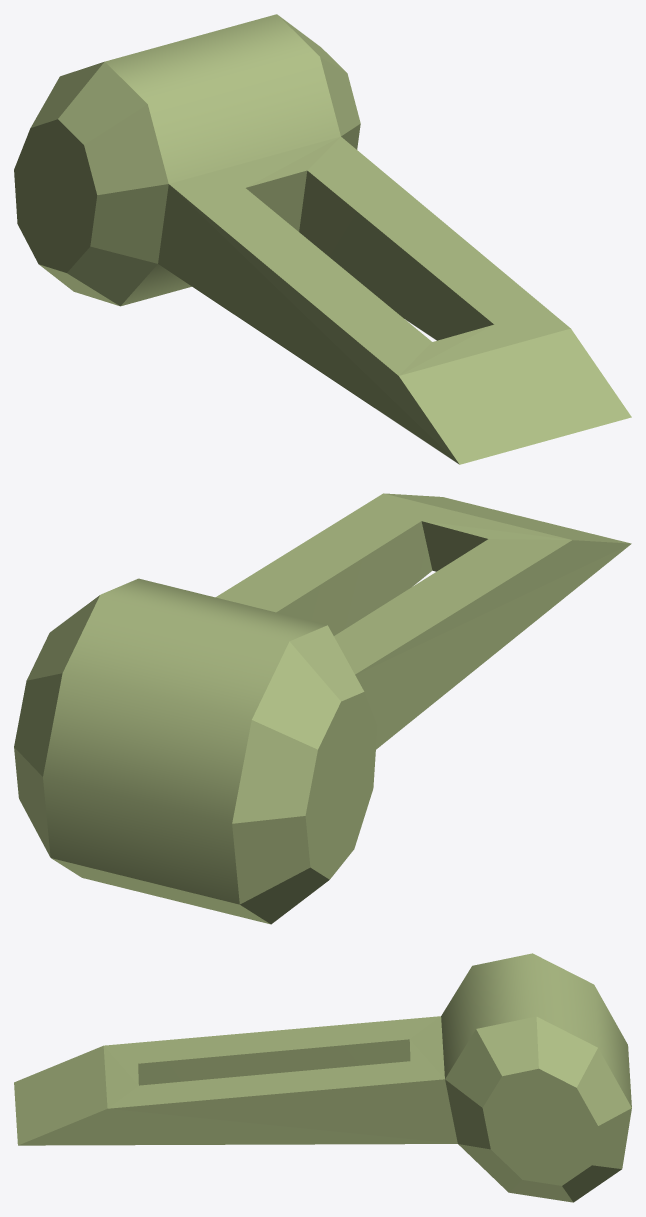
File: SpiderLegLeftFrontB.FBX
3 views of the same model, one above another, from view 1: azimuth 30°, elevation 25°; view 2: azimuth 150°, elevation 25°; view 3: azimuth 270°, elevation 25° (orthographic). The views are drawn at different scales.
Visible parts, largest first — view 1: SpiderLegLeftFrontB; view 2: SpiderLegLeftFrontB; view 3: SpiderLegLeftFrontB.
Part boxes in pixels (x1,y1,x2,y2): SpiderLegLeftFrontB: [14, 14, 631, 464]; SpiderLegLeftFrontB: [14, 493, 631, 924]; SpiderLegLeftFrontB: [14, 953, 631, 1202].
Size of the model in its own units: 76.52 by 193 by 65.78.
